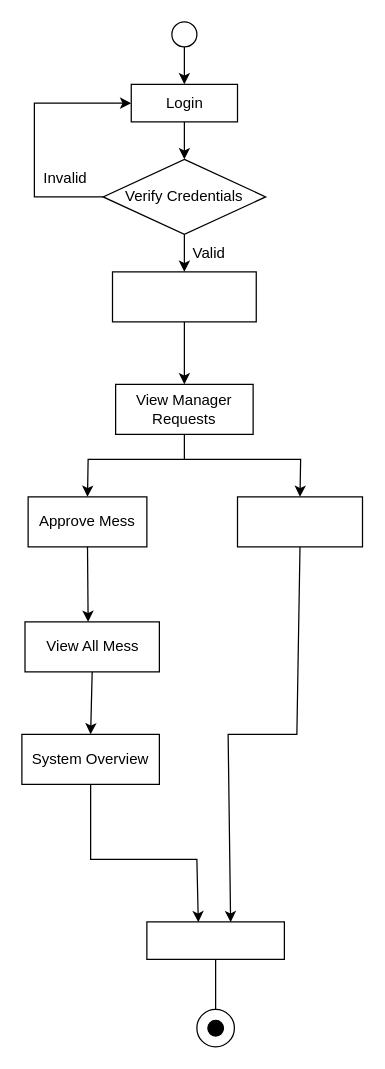
Some shapes in this 385 by 1069 pixel diagram are drawn without their labels. Here are the shapes that lost their labels. From the top down, the centre of each, then its label:
At [183,296]: "Dashboard".
At [299,521]: "Reject Mess".
At [215,940]: "Logout".
